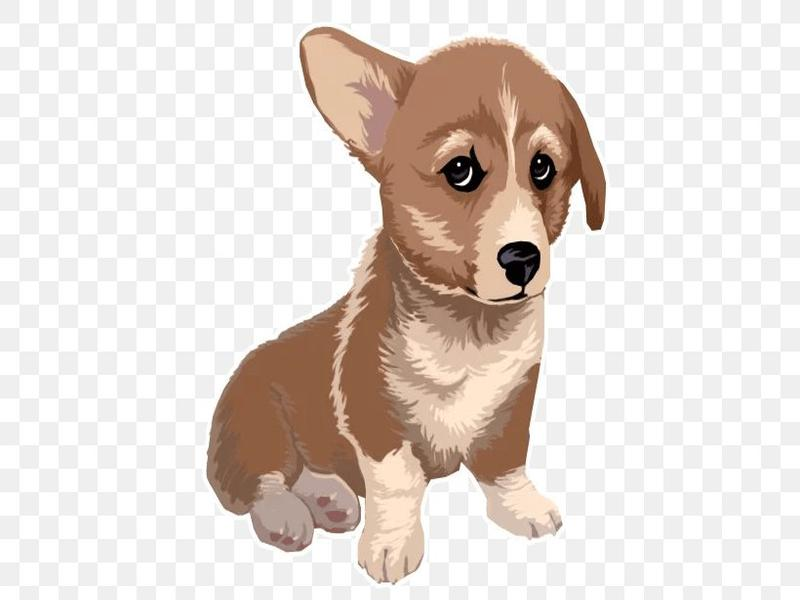corgi: (298, 26, 609, 312)
